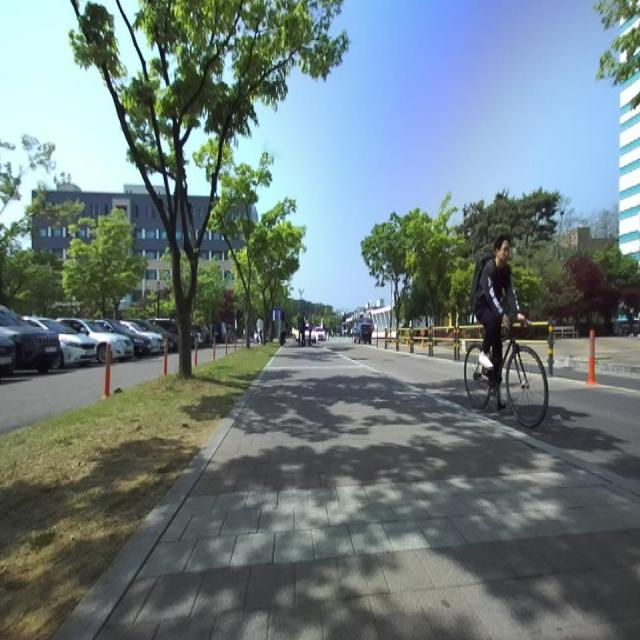sidewalk: (93, 347, 640, 640)
